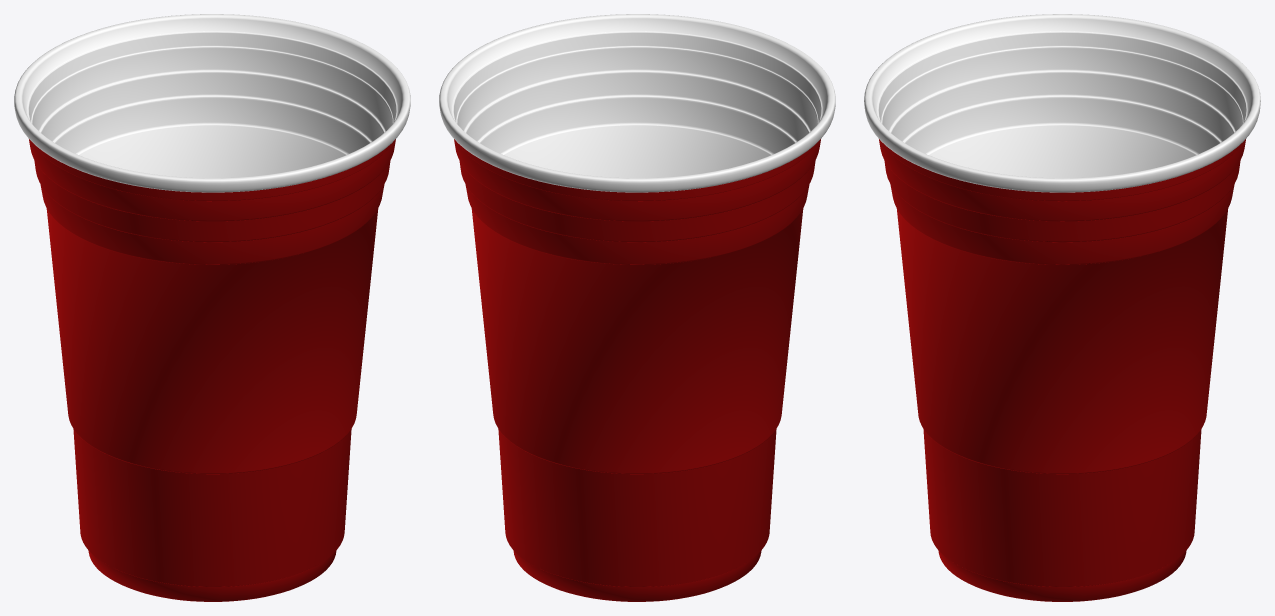
The model's file is finalsolo.glb.
3 renders of one model, left to right at view 1: azimuth 30°, elevation 25°; view 2: azimuth 150°, elevation 25°; view 3: azimuth 270°, elevation 25°, orthographic.
Parts seen in each view (by area): view 1: exterior, interior; view 2: exterior, interior; view 3: exterior, interior.
Part boxes in pixels (bbox=[...]): exterior: bbox=[29, 139, 395, 601]; interior: bbox=[14, 14, 410, 192]; exterior: bbox=[454, 139, 820, 601]; interior: bbox=[439, 14, 835, 192]; exterior: bbox=[879, 139, 1245, 601]; interior: bbox=[864, 14, 1260, 192].
Bounding box in the file's own units: 0.279 × 0.3521 × 0.279.
